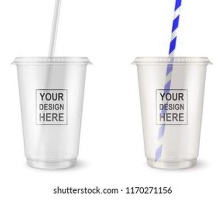drinking_straw: (31, 0, 70, 160), (151, 0, 187, 165)
glass: (6, 51, 96, 174), (125, 51, 214, 174)
